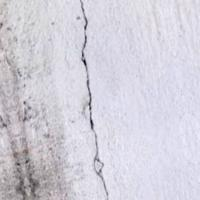crack: (65, 0, 125, 189)
